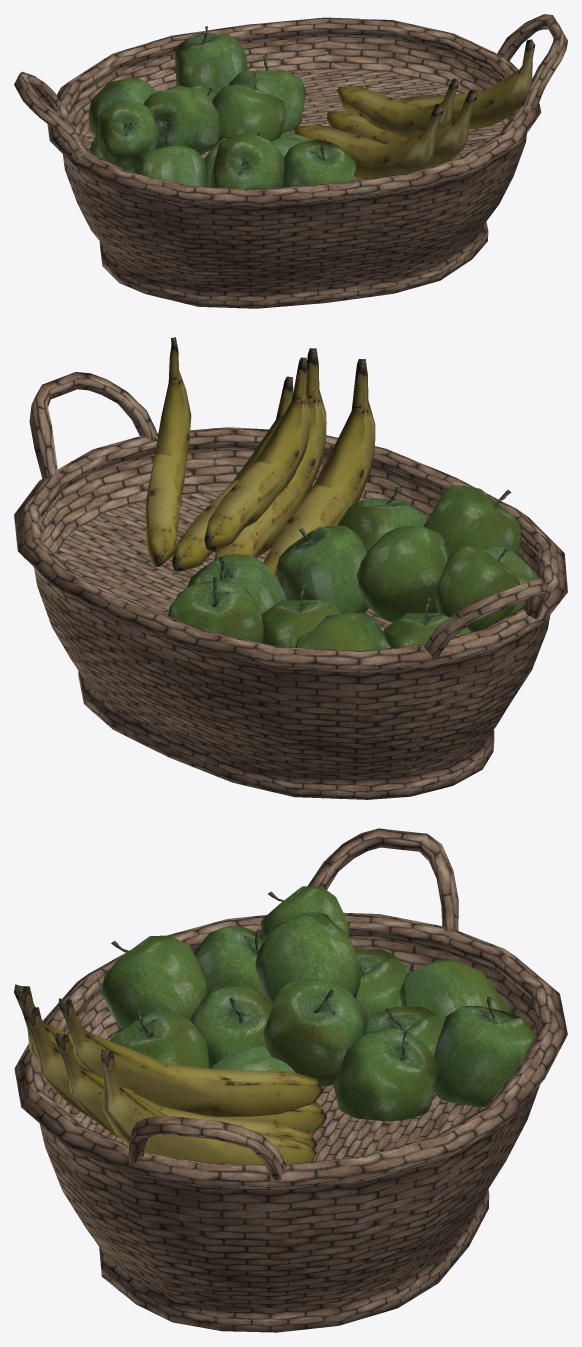
The model's file is Fruit_Basket_02.glb.
3 views of the same model, one above another, from view 1: azimuth 30°, elevation 25°; view 2: azimuth 150°, elevation 25°; view 3: azimuth 270°, elevation 25° (orthographic). The views are drawn at different scales.
Parts seen in each view (by area): view 1: Fruit_Basket_02; view 2: Fruit_Basket_02; view 3: Fruit_Basket_02.
Part boxes in pixels (x1,y1,x2,y2): Fruit_Basket_02: [14, 14, 567, 308]; Fruit_Basket_02: [14, 337, 567, 799]; Fruit_Basket_02: [14, 828, 567, 1332].
Bounding box in the file's own units: 0.8652 × 0.3854 × 0.6609.
2 materials, 2 textured.
